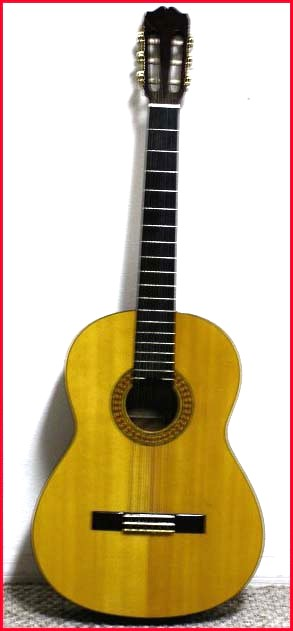guitar: (30, 6, 266, 622)
